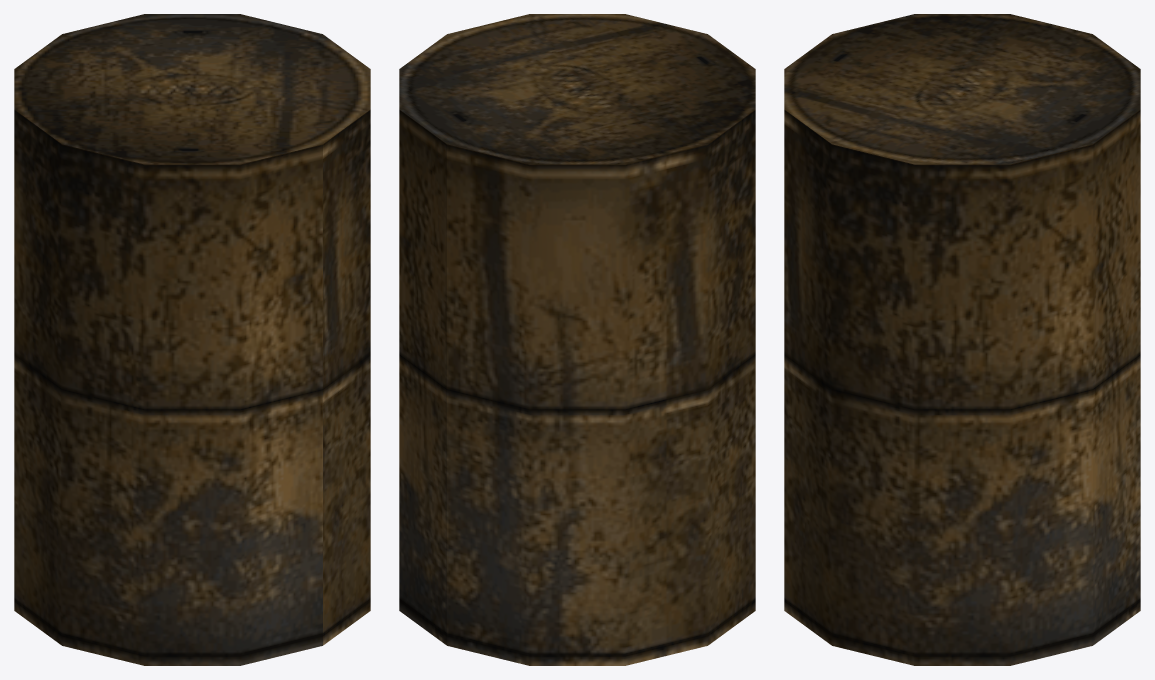
The model's file is Barrel.fbx.
3 views of the same model, side by side, from view 1: azimuth 30°, elevation 25°; view 2: azimuth 150°, elevation 25°; view 3: azimuth 270°, elevation 25° (orthographic).
Visible parts, largest first — view 1: Cylinder; view 2: Cylinder; view 3: Cylinder.
Part boxes in pixels (x1=…): Cylinder: x1=14, y1=14, x2=370, y2=665; Cylinder: x1=399, y1=14, x2=755, y2=665; Cylinder: x1=784, y1=14, x2=1140, y2=665.
Size of the model in its own units: 1.93 by 3 by 1.93.
